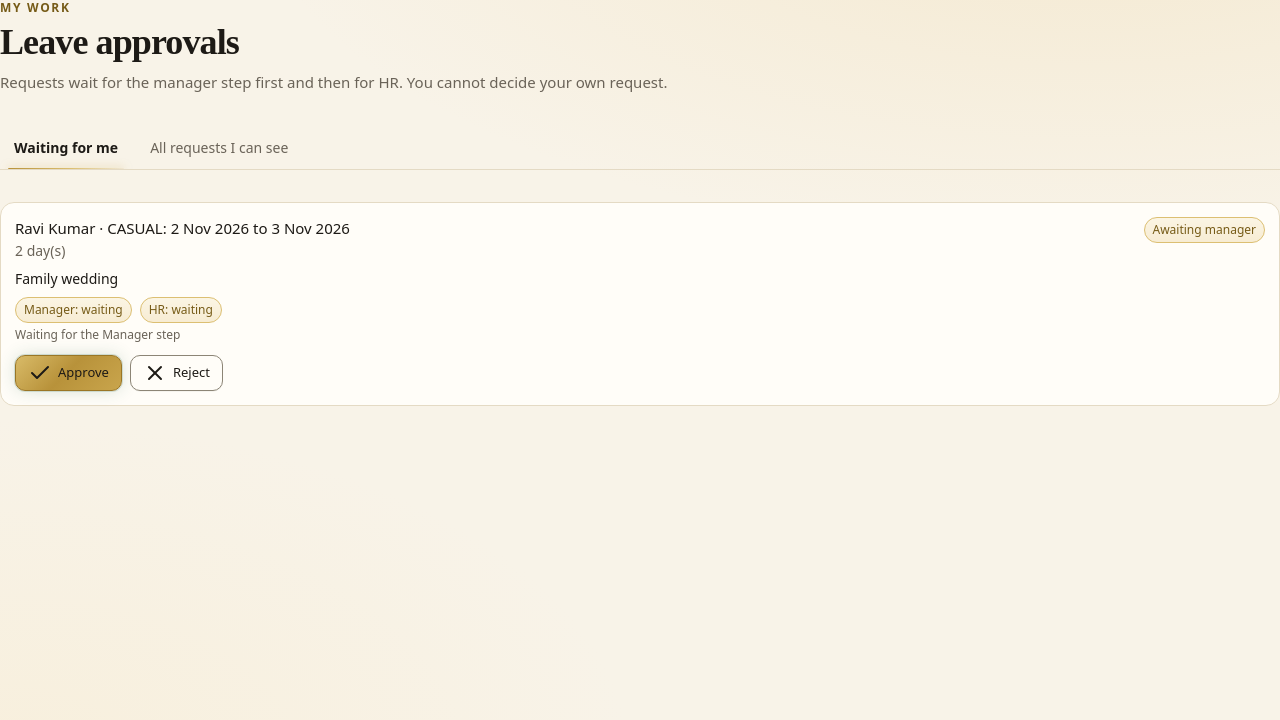
Test case: ApprovalsPage › lists what waits for me and approves with an optional comment
Expected: the text "Ravi Kumar · CASUAL: 2 Nov 2026 to 3 Nov 2026" is shown, [15,217,350,241]
Click the button "Approve". click: point(68, 372)
box: [15,354,122,390]
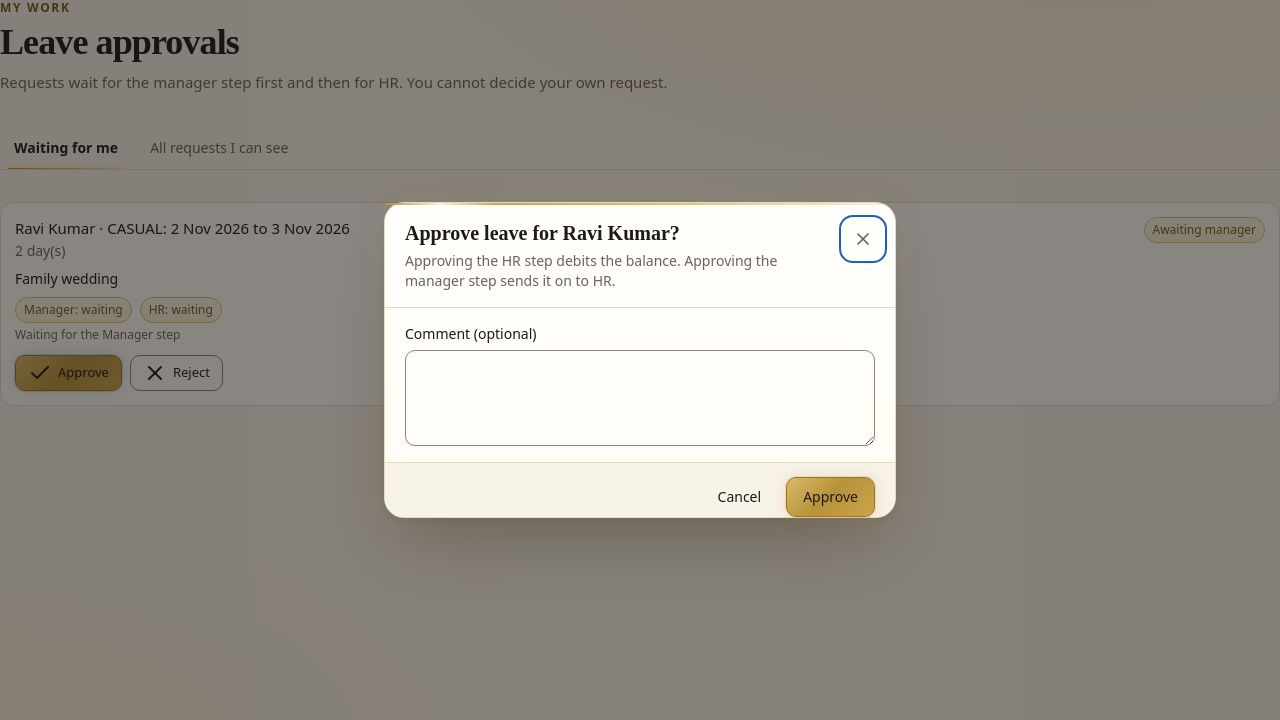
Click the button "Approve". click: point(831, 497)
box: [786,477,875,517]
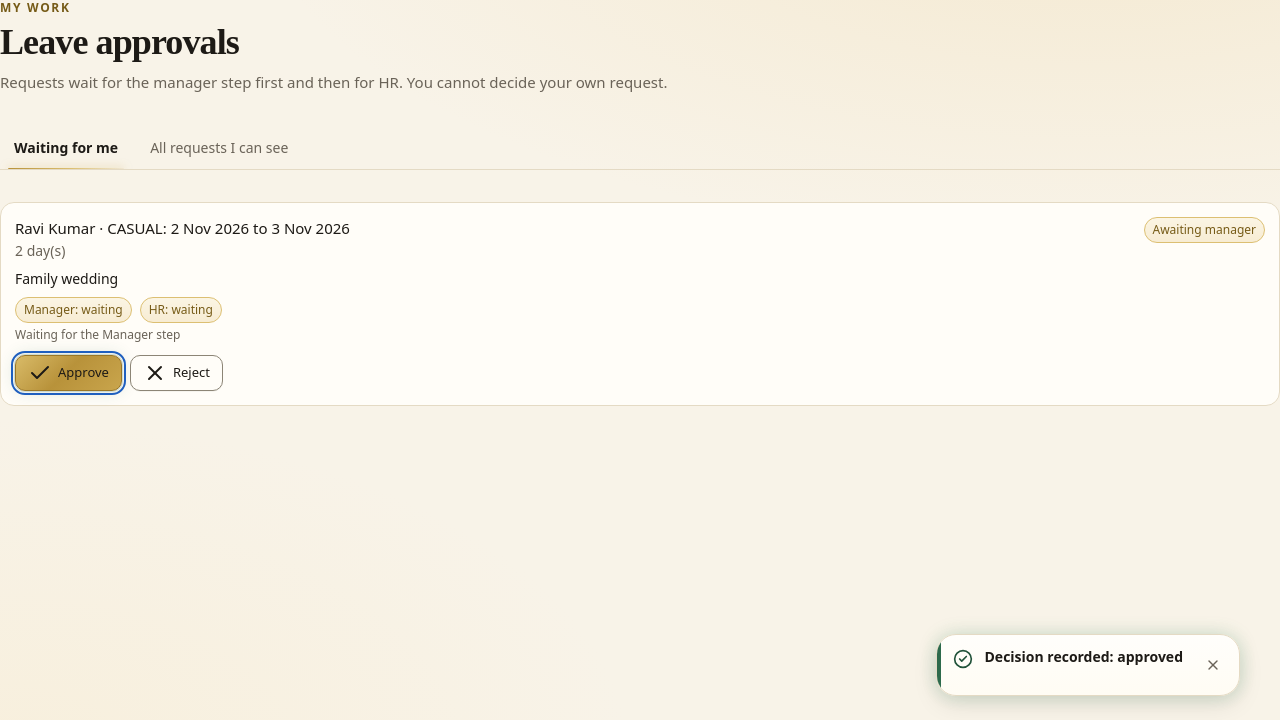
Now the text "Decision recorded: approved" is shown, box [984,647,1183,667]
